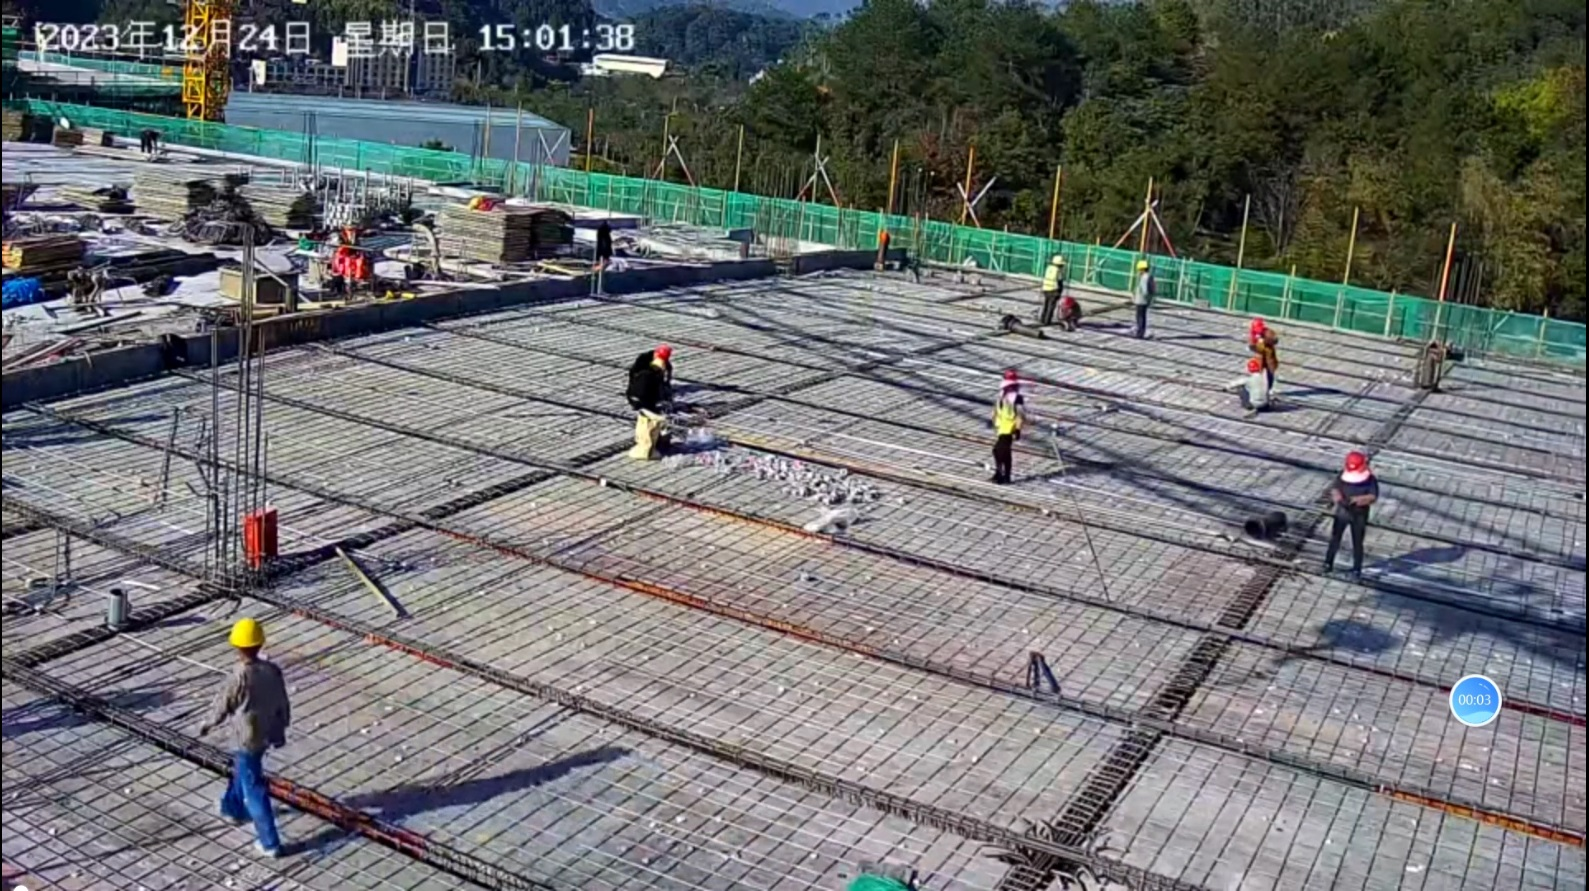person: (203, 615, 291, 863), (1323, 450, 1377, 578), (627, 344, 675, 461), (979, 366, 1025, 484), (1224, 354, 1274, 412), (1248, 318, 1280, 394), (1038, 251, 1065, 323), (1131, 260, 1153, 338), (1056, 296, 1080, 328)
